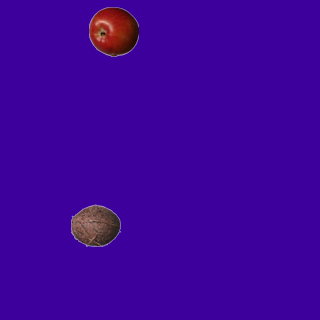Apple Braeburn: (88, 6, 138, 56)
Cocos: (70, 200, 120, 250)
